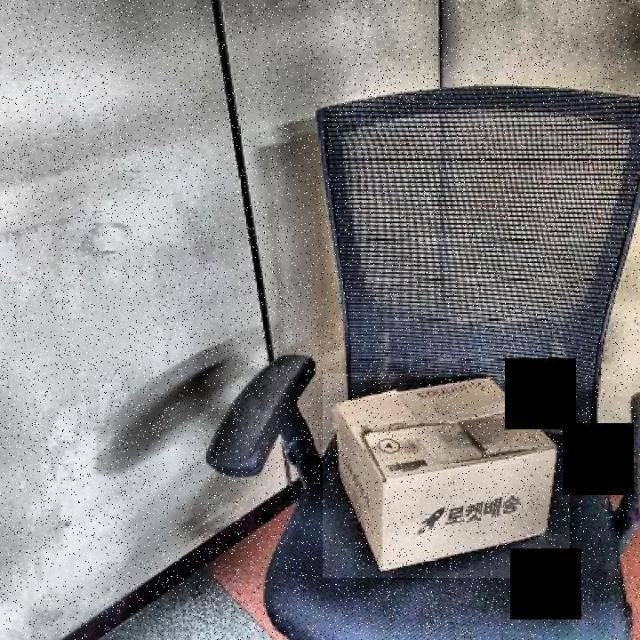box: (322, 373, 570, 578)
